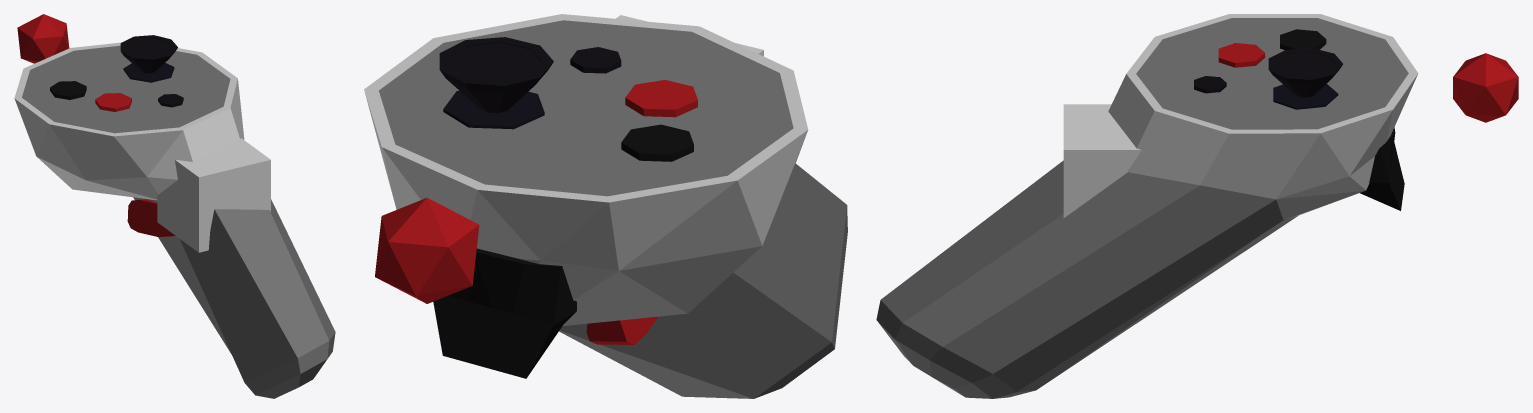
Rendered from oculus-controller-right.obj.
3 views of the same model, side by side, from view 1: azimuth 30°, elevation 25°; view 2: azimuth 150°, elevation 25°; view 3: azimuth 270°, elevation 25° (orthographic). The views are drawn at different scales.
Parts seen in each view (by area): view 1: Icosphere.002_Icosphere.003, Cube.005_Cube.011, Icosphere.001_Icosphere.004, Cylinder.001_Cylinder.004, Cube.002_Cube.005, HTC_Vive_controller.006_HTC_Vive_controller.010, HTC_Vive_controller.004_HTC_Vive_controller.008, HTC_Vive_controller.003_HTC_Vive_controller.007, HTC_Vive_controller.007_HTC_Vive_controller.011; view 2: Icosphere.002_Icosphere.003, Cube.004_Cube.006, Icosphere.001_Icosphere.004, Cylinder.001_Cylinder.004, HTC_Vive_controller.006_HTC_Vive_controller.010, HTC_Vive_controller.004_HTC_Vive_controller.008, HTC_Vive_controller.003_HTC_Vive_controller.007, Cube.002_Cube.005, HTC_Vive_controller.007_HTC_Vive_controller.011; view 3: Icosphere.002_Icosphere.003, Cube.005_Cube.011, Icosphere.001_Icosphere.004, Cylinder.001_Cylinder.004, Cube.004_Cube.006, HTC_Vive_controller.006_HTC_Vive_controller.010, HTC_Vive_controller.004_HTC_Vive_controller.008, HTC_Vive_controller.003_HTC_Vive_controller.007.
Part boxes in pixels (left/top/right/bottom): Icosphere.002_Icosphere.003: left=14, top=42, right=335, bottom=398; Cube.005_Cube.011: left=157, top=138, right=270, bottom=252; Icosphere.001_Icosphere.004: left=17, top=14, right=69, bottom=63; Cylinder.001_Cylinder.004: left=120, top=35, right=177, bottom=73; Cube.002_Cube.005: left=127, top=199, right=175, bottom=236; HTC_Vive_controller.006_HTC_Vive_controller.010: left=123, top=63, right=174, bottom=82; HTC_Vive_controller.004_HTC_Vive_controller.008: left=95, top=93, right=131, bottom=111; HTC_Vive_controller.003_HTC_Vive_controller.007: left=50, top=81, right=86, bottom=99; HTC_Vive_controller.007_HTC_Vive_controller.011: left=158, top=94, right=183, bottom=107; Icosphere.002_Icosphere.003: left=364, top=14, right=847, bottom=398; Cube.004_Cube.006: left=433, top=248, right=576, bottom=378; Icosphere.001_Icosphere.004: left=375, top=197, right=479, bottom=303; Cylinder.001_Cylinder.004: left=439, top=37, right=553, bottom=113; HTC_Vive_controller.006_HTC_Vive_controller.010: left=443, top=90, right=544, bottom=129; HTC_Vive_controller.004_HTC_Vive_controller.008: left=625, top=80, right=697, bottom=117; HTC_Vive_controller.003_HTC_Vive_controller.007: left=621, top=124, right=693, bottom=161; Cube.002_Cube.005: left=586, top=316, right=657, bottom=344; HTC_Vive_controller.007_HTC_Vive_controller.011: left=570, top=47, right=621, bottom=73; Icosphere.002_Icosphere.003: left=876, top=14, right=1418, bottom=398; Cube.005_Cube.011: left=1063, top=104, right=1141, bottom=217; Icosphere.001_Icosphere.004: left=1453, top=53, right=1518, bottom=122; Cylinder.001_Cylinder.004: left=1268, top=48, right=1342, bottom=97; Cube.004_Cube.006: left=1360, top=127, right=1404, bottom=210; HTC_Vive_controller.006_HTC_Vive_controller.010: left=1273, top=83, right=1338, bottom=109; HTC_Vive_controller.004_HTC_Vive_controller.008: left=1218, top=43, right=1265, bottom=67; HTC_Vive_controller.003_HTC_Vive_controller.007: left=1280, top=29, right=1326, bottom=49.
Bounding box in the file's own units: 5.24 × 6.71 × 11.87.
